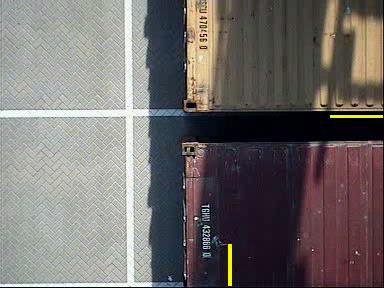groundmarker_2: (139, 54, 194, 91), (140, 224, 195, 261)
